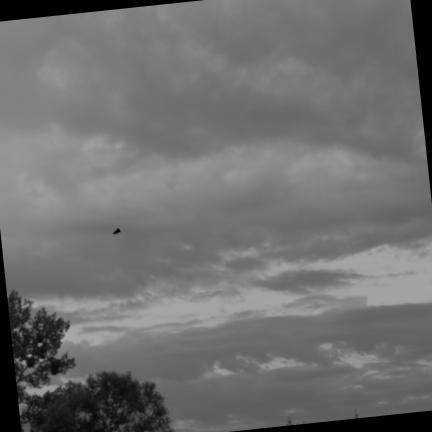Shahed: (113, 228, 121, 234)
